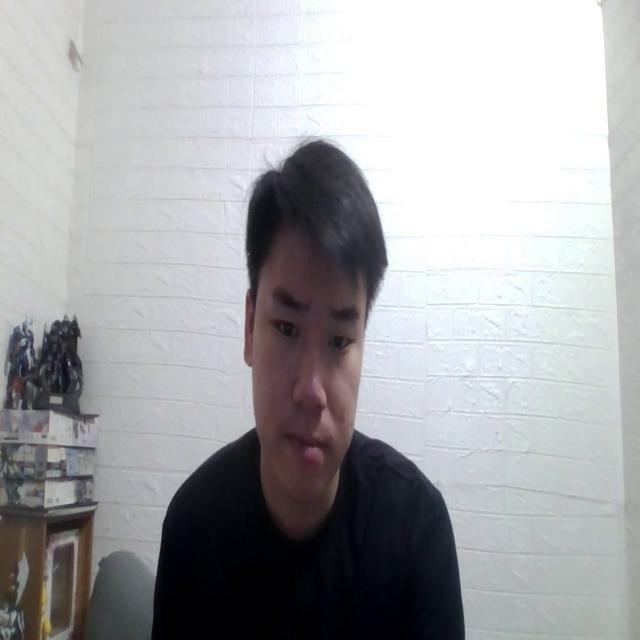student: (146, 135, 465, 640)
